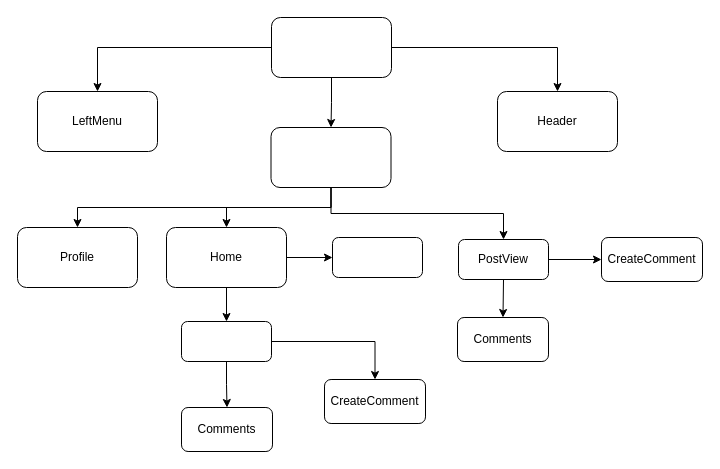
The diagram is 720 pixels wide and 469 high, and some of its shapes have lost their labels. Each missing label, with the centre of its shape:
"App" belongs at [331,47].
"CreatePost" belongs at [377,257].
"Dashboard" belongs at [330,157].
"Post" belongs at [226,341].
